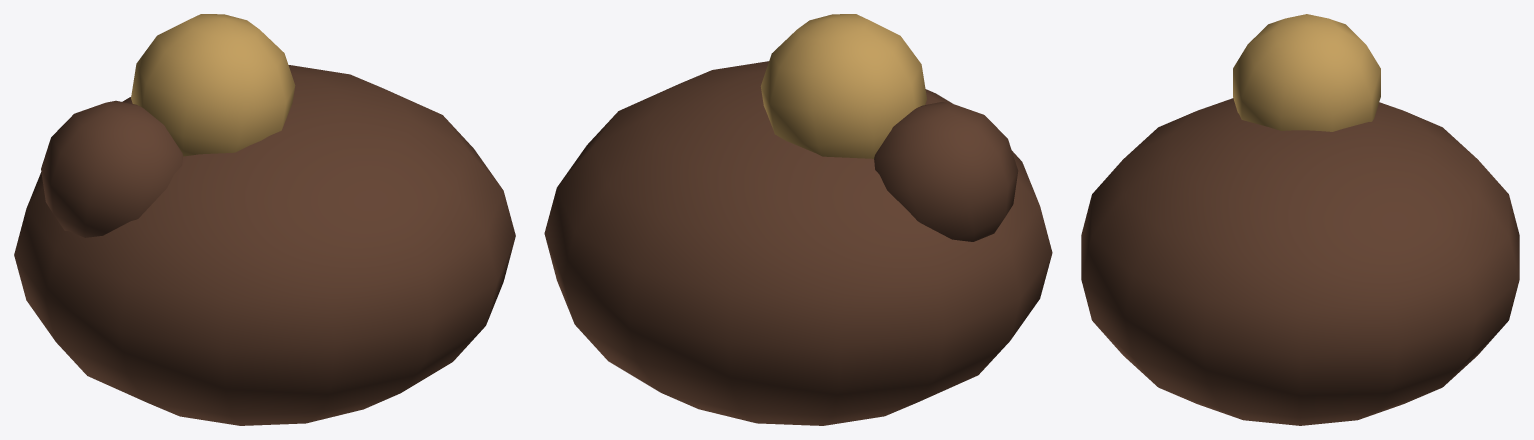
Rendered from bob_hair.glb.
3 renders of one model, left to right at view 1: azimuth 30°, elevation 25°; view 2: azimuth 150°, elevation 25°; view 3: azimuth 270°, elevation 25°, orthographic. The views are drawn at different scales.
Parts seen in each view (by area): view 1: hair_cap, hair_detail_2, hair_detail_1; view 2: hair_cap, hair_detail_2, hair_detail_1; view 3: hair_cap, hair_detail_2.
Boxes of the visible parts, box(x1,y1,x2,y2) form: hair_cap: box(14, 65, 515, 425); hair_detail_2: box(131, 14, 295, 156); hair_detail_1: box(41, 100, 182, 237); hair_cap: box(544, 61, 1052, 425); hair_detail_2: box(760, 14, 926, 158); hair_detail_1: box(874, 102, 1018, 241); hair_cap: box(1081, 98, 1519, 425); hair_detail_2: box(1233, 14, 1380, 131).
Size of the model in its own units: 0.728 by 0.6028 by 0.6824.
